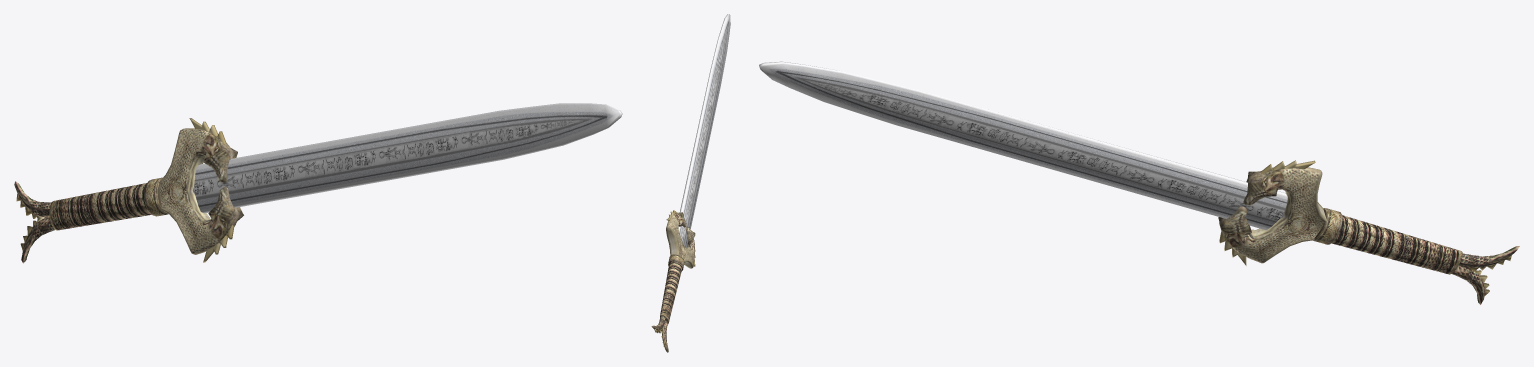
The model's file is ww-sword.glb.
3 views of the same model, side by side, from view 1: azimuth 30°, elevation 25°; view 2: azimuth 150°, elevation 25°; view 3: azimuth 270°, elevation 25° (orthographic). The views are drawn at different scales.
Visible parts, largest first — view 1: ww_godkiller; view 2: ww_godkiller; view 3: ww_godkiller.
Part boxes in pixels (x1,y1,x2,y2): ww_godkiller: (14, 103, 622, 263); ww_godkiller: (651, 14, 730, 352); ww_godkiller: (759, 61, 1519, 304).
Size of the model in its own units: 2.98 by 4.22 by 8.14.
Materials: 1 (1 with a texture image).
